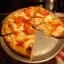pizza: (2, 7, 64, 56)
